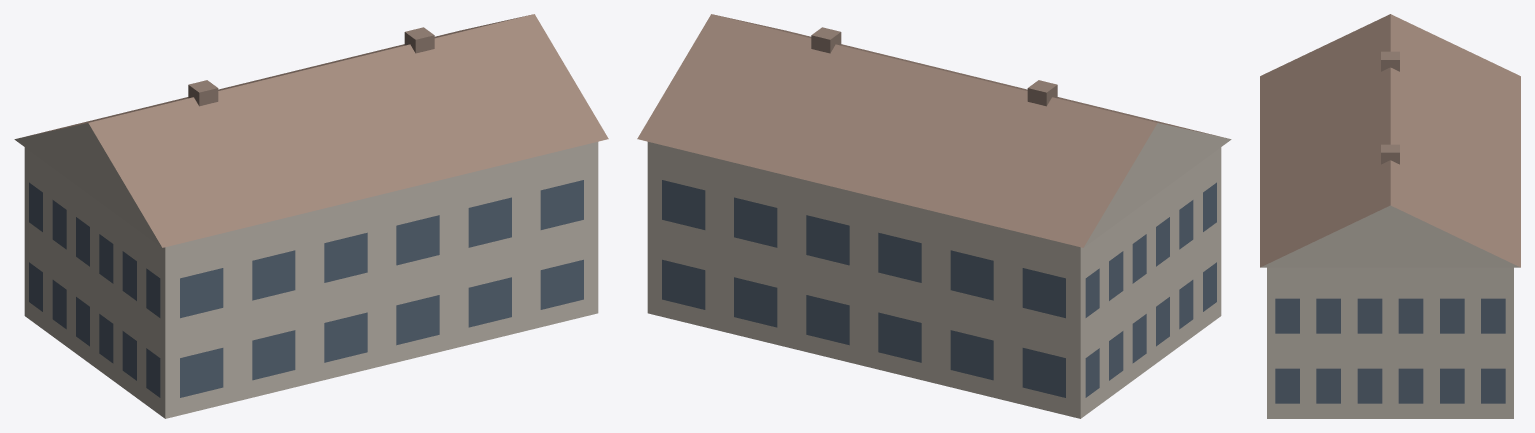
The model's file is house_05_duplex_townhouse.glb.
The picture shows the model from 3 angles, left to right: view 1: azimuth 30°, elevation 25°; view 2: azimuth 150°, elevation 25°; view 3: azimuth 270°, elevation 25°; orthographic projection. The views are drawn at different scales.
Visible parts, largest first — view 1: house_05_duplex_townhouse; view 2: house_05_duplex_townhouse; view 3: house_05_duplex_townhouse.
Boxes of the visible parts, bbox=[...] form: house_05_duplex_townhouse: bbox=[14, 14, 608, 418]; house_05_duplex_townhouse: bbox=[637, 14, 1231, 418]; house_05_duplex_townhouse: bbox=[1260, 14, 1520, 418].
Bounding box in the file's own units: 16.5 × 9 × 9.5.
